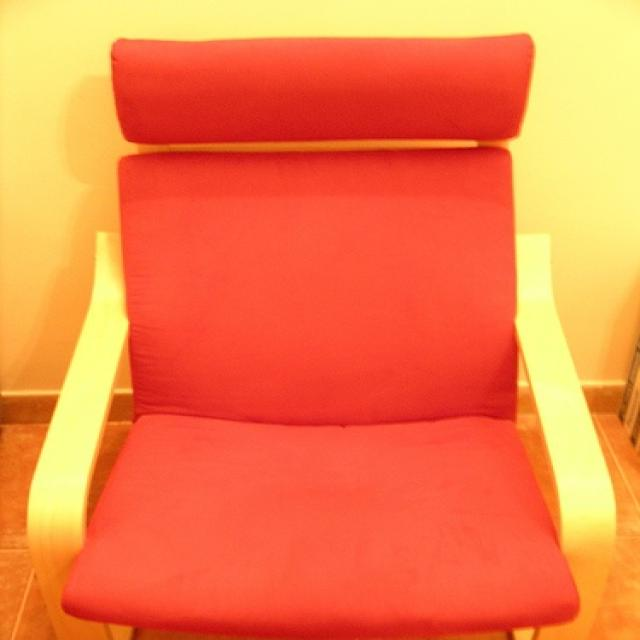chair: (17, 32, 623, 639)
